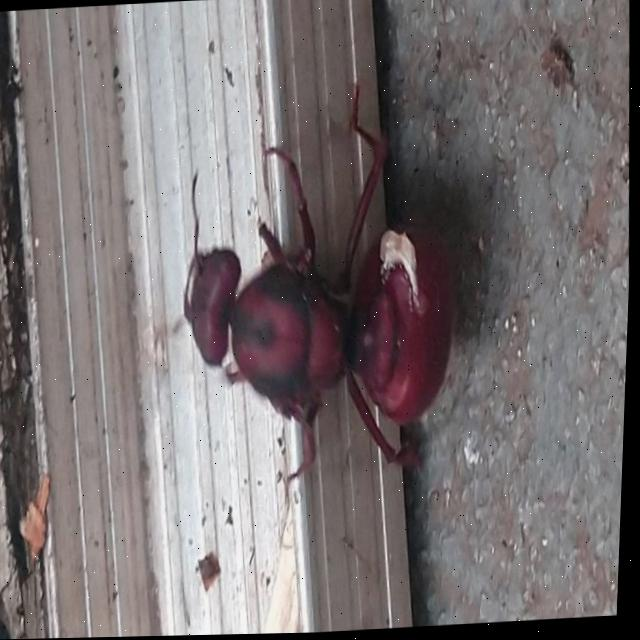Alive-Female-Dealate: (140, 79, 470, 511)
